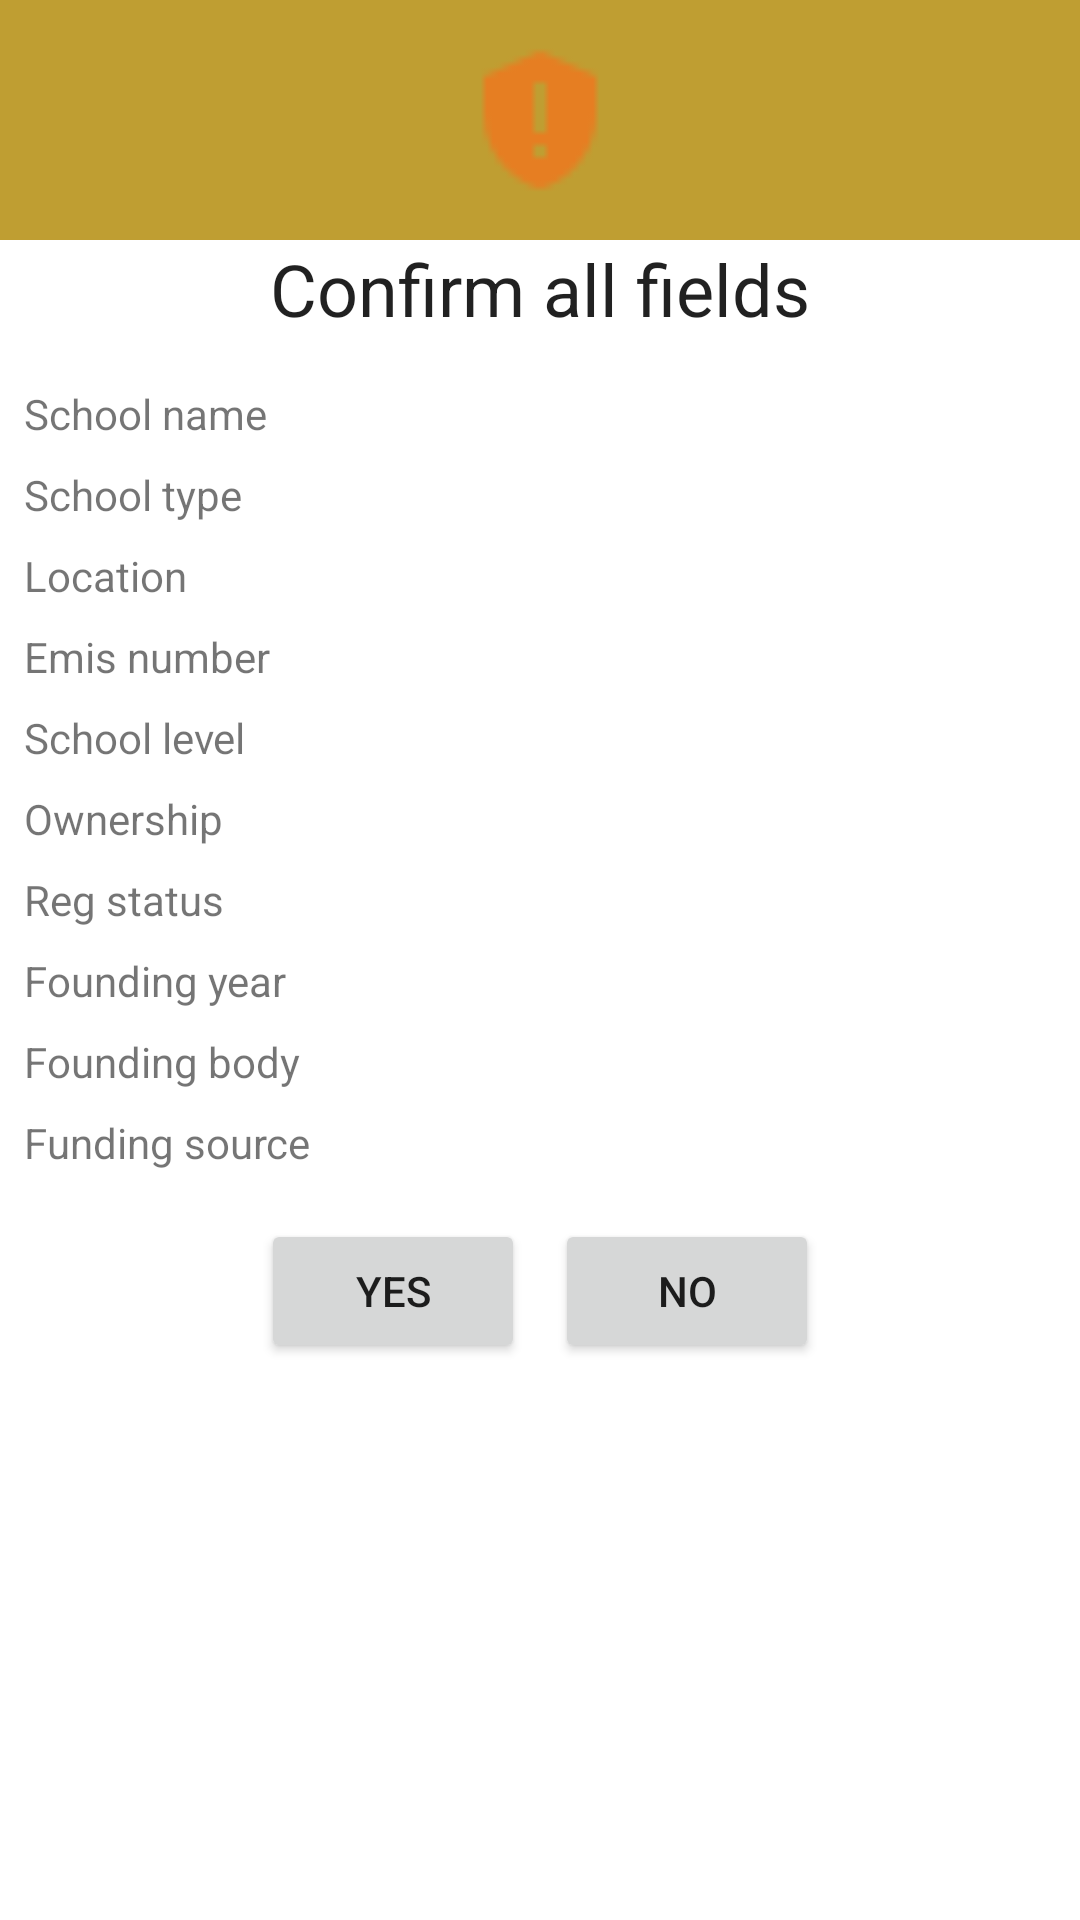

Icons on this 1080x1920 Android screen, each with its box as (x1, y1, x2, y2):
warning: (485, 53, 596, 187)
